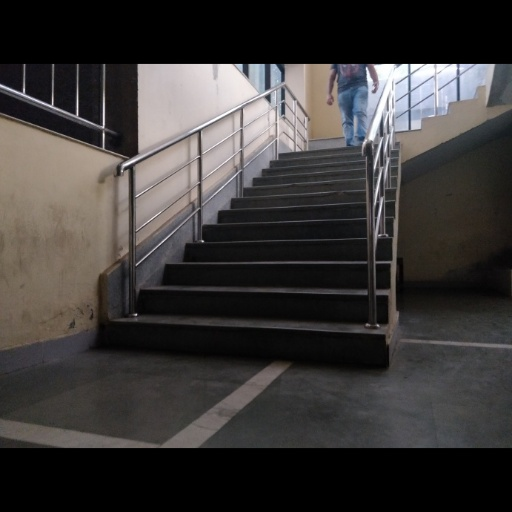Stairs: (102, 150, 381, 363)
